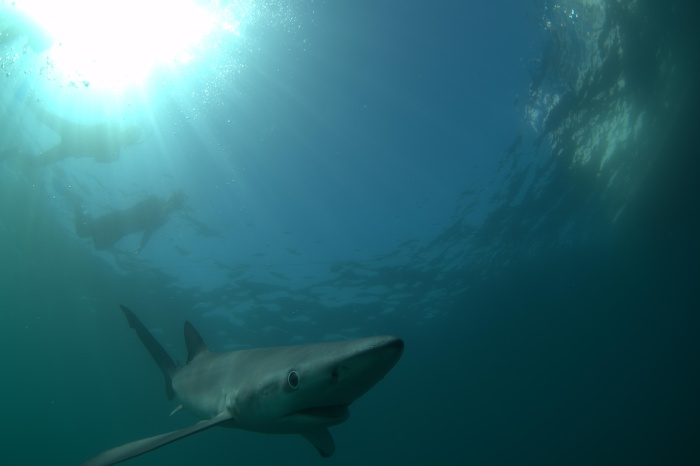Azul: (79, 292, 449, 466)
